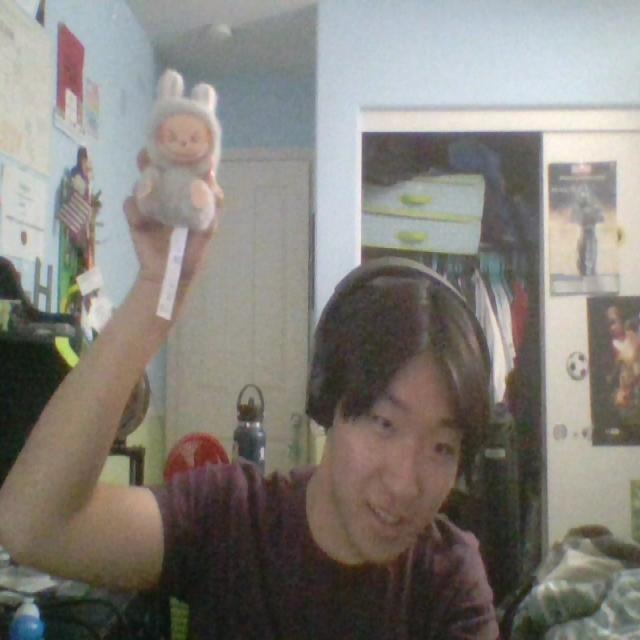labubu: (133, 72, 221, 231)
